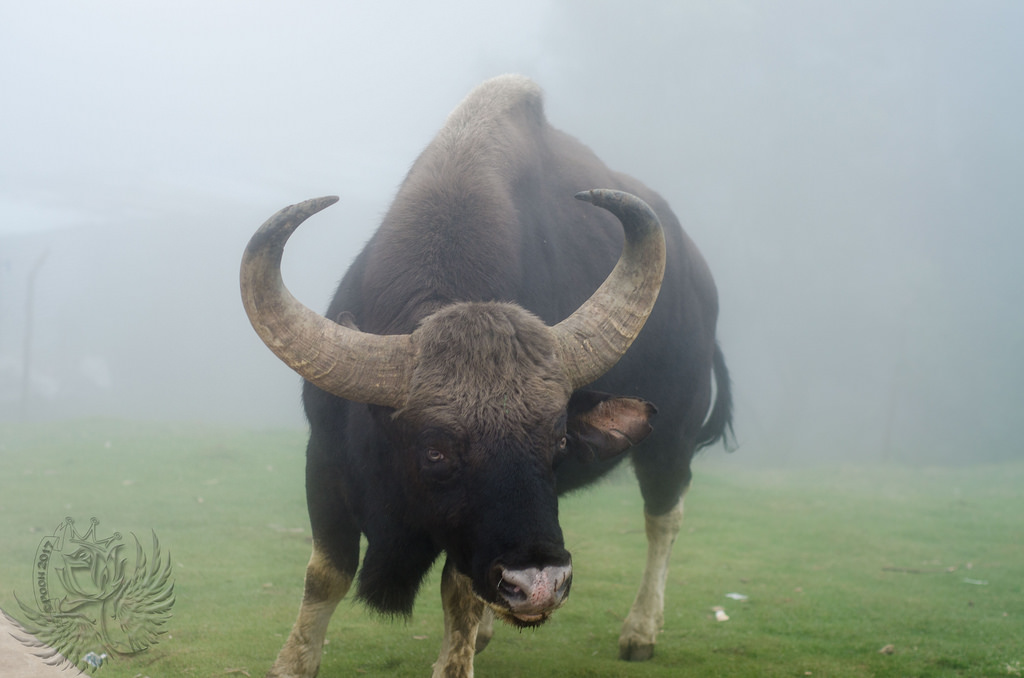bison: (226, 65, 731, 678)
